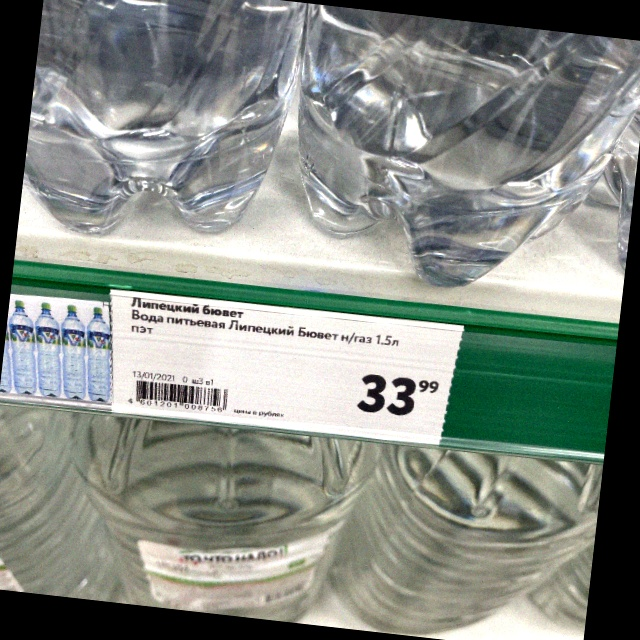barcode: (127, 377, 234, 412)
name: (120, 295, 400, 357)
price: (356, 371, 441, 420)
price_tag: (107, 288, 465, 446)
